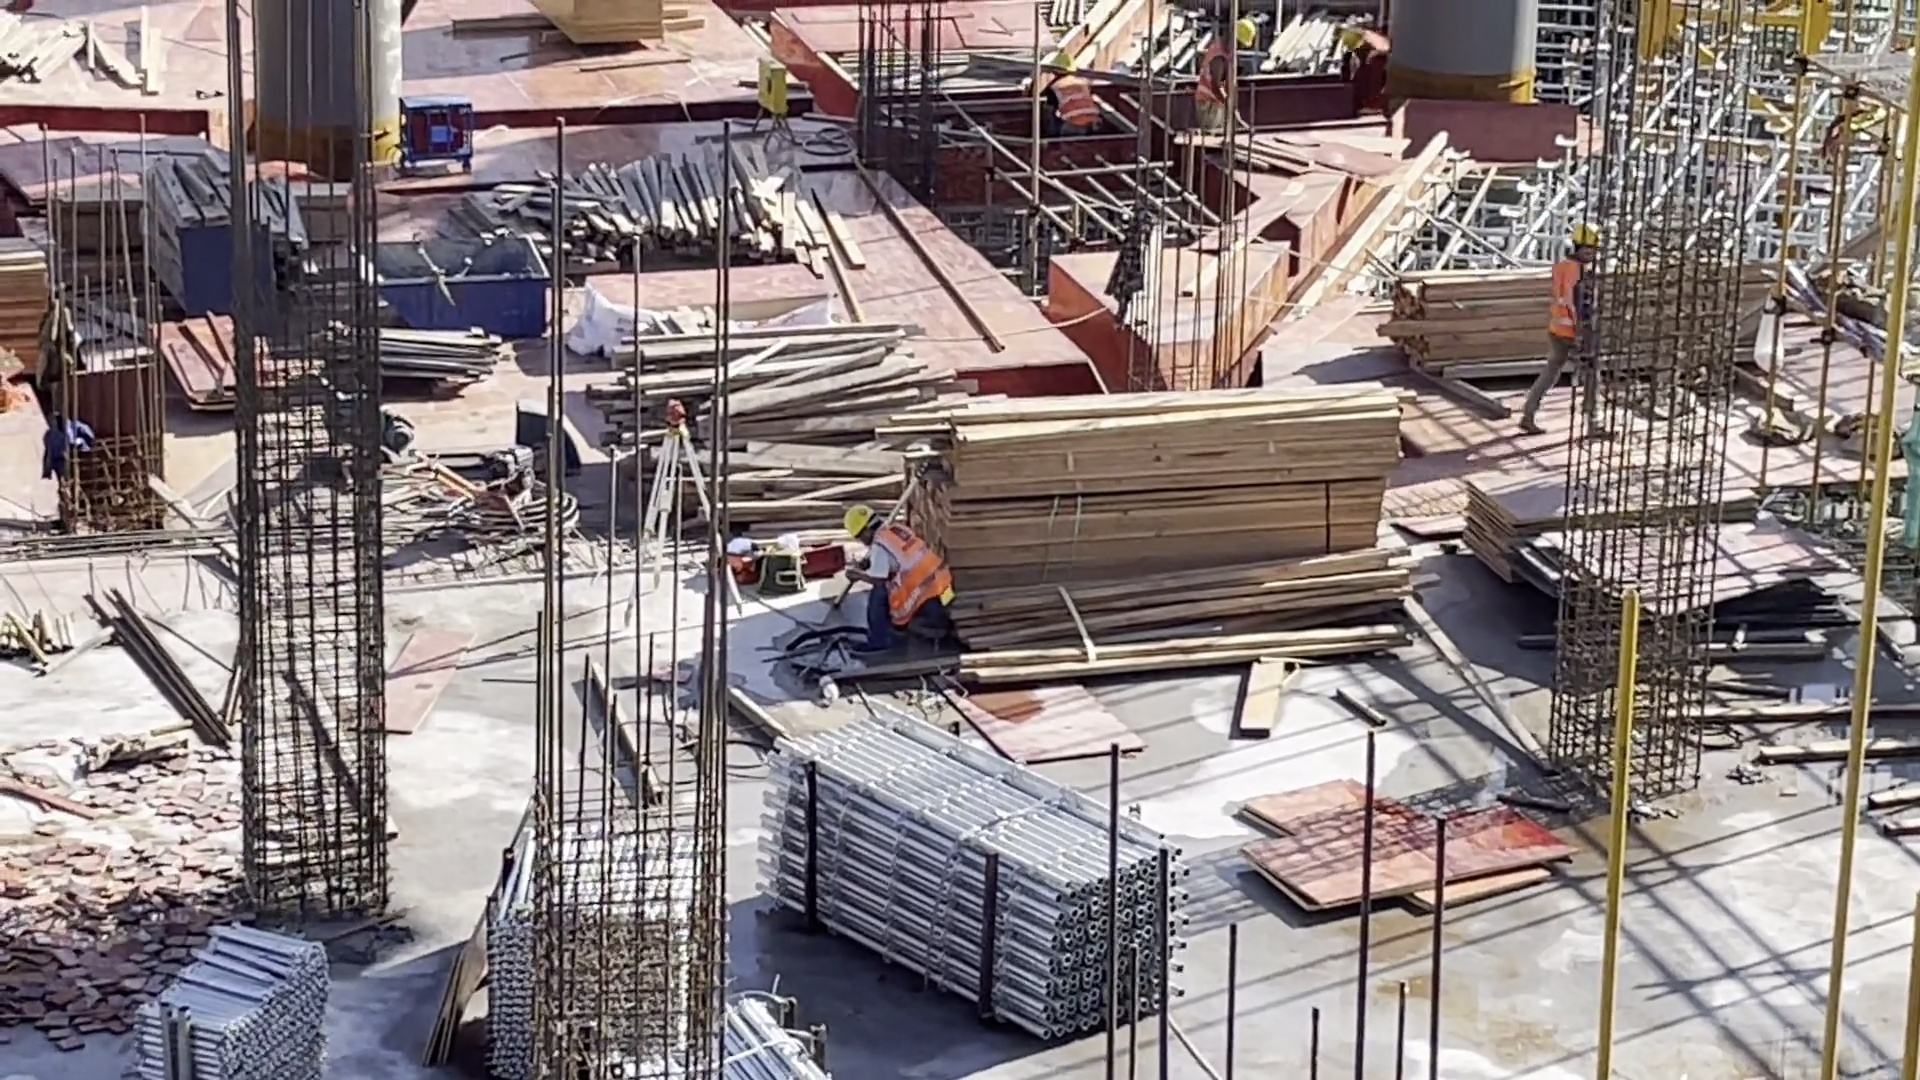board: (1462, 465, 1835, 623)
ebox: (754, 56, 797, 123)
helmet: (843, 505, 871, 538)
hopper: (350, 235, 547, 337)
person: (1529, 225, 1610, 441), (841, 504, 952, 650), (1198, 17, 1254, 134), (1041, 54, 1101, 135), (1332, 23, 1389, 88)
scaffold: (758, 701, 1195, 1041), (494, 797, 825, 1080), (139, 924, 327, 1080)
vest: (870, 524, 948, 621), (1547, 253, 1591, 349), (1048, 76, 1099, 131), (1196, 46, 1237, 108), (1361, 35, 1387, 73), (1570, 224, 1603, 253), (1232, 20, 1257, 54), (1052, 53, 1077, 73), (1339, 25, 1359, 45)
wood: (854, 376, 1429, 682), (602, 324, 906, 515), (1381, 260, 1762, 384), (539, 142, 863, 279)
